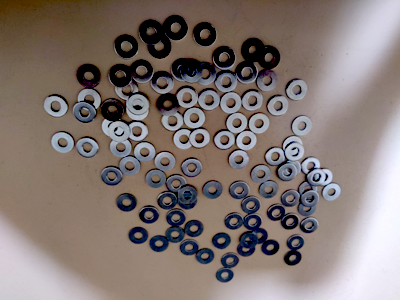circle: (164, 15, 189, 41), (77, 64, 102, 89), (115, 77, 140, 101), (114, 35, 139, 59), (140, 20, 164, 45), (130, 60, 154, 84), (194, 23, 218, 47), (151, 71, 175, 95), (45, 95, 69, 118), (109, 64, 132, 88), (156, 93, 179, 117), (172, 58, 195, 82), (195, 61, 217, 86), (181, 59, 203, 84), (102, 99, 125, 122), (78, 88, 101, 111), (214, 47, 237, 70), (149, 36, 172, 59), (126, 93, 150, 115), (243, 38, 265, 62), (51, 131, 74, 153), (127, 98, 149, 121), (198, 89, 221, 111), (259, 46, 281, 69), (236, 62, 258, 84), (216, 71, 238, 93), (74, 102, 97, 123), (173, 129, 196, 150), (161, 111, 184, 132), (221, 91, 242, 114), (258, 69, 279, 92), (77, 137, 99, 158), (109, 121, 131, 142), (110, 137, 132, 158), (287, 79, 308, 101), (268, 95, 289, 117), (214, 130, 236, 151), (184, 108, 206, 129), (177, 87, 199, 108), (227, 112, 248, 134), (242, 90, 264, 111), (166, 174, 187, 195), (128, 121, 149, 142), (249, 113, 270, 134), (101, 167, 123, 187), (189, 129, 211, 149), (135, 142, 156, 162), (146, 169, 167, 189), (182, 158, 203, 178), (203, 180, 224, 200), (283, 136, 304, 156), (292, 116, 313, 136), (119, 157, 141, 176), (155, 152, 177, 171), (102, 118, 124, 137), (237, 131, 257, 151), (229, 150, 249, 170), (139, 206, 160, 225), (117, 194, 138, 213), (178, 185, 199, 204), (178, 191, 199, 210), (251, 165, 272, 184), (265, 148, 287, 166), (230, 181, 250, 200), (260, 180, 280, 199), (298, 180, 318, 199), (285, 143, 305, 162), (302, 157, 321, 176), (129, 227, 149, 245), (167, 209, 187, 227), (158, 192, 178, 210), (314, 169, 334, 187), (225, 213, 244, 231), (166, 226, 185, 244), (242, 196, 261, 214), (307, 169, 326, 187), (278, 164, 297, 182), (283, 160, 302, 178), (184, 221, 204, 238), (281, 190, 301, 207), (281, 214, 300, 231), (268, 205, 287, 222), (244, 214, 263, 231), (150, 236, 169, 253), (298, 200, 317, 217), (322, 184, 341, 201), (240, 232, 258, 249), (213, 233, 231, 250), (283, 251, 302, 267), (180, 240, 199, 256), (301, 191, 320, 207), (301, 218, 318, 235), (262, 240, 280, 256), (287, 235, 305, 251), (196, 249, 215, 264), (251, 229, 268, 245), (216, 268, 234, 283), (221, 254, 239, 269), (238, 243, 256, 258)
